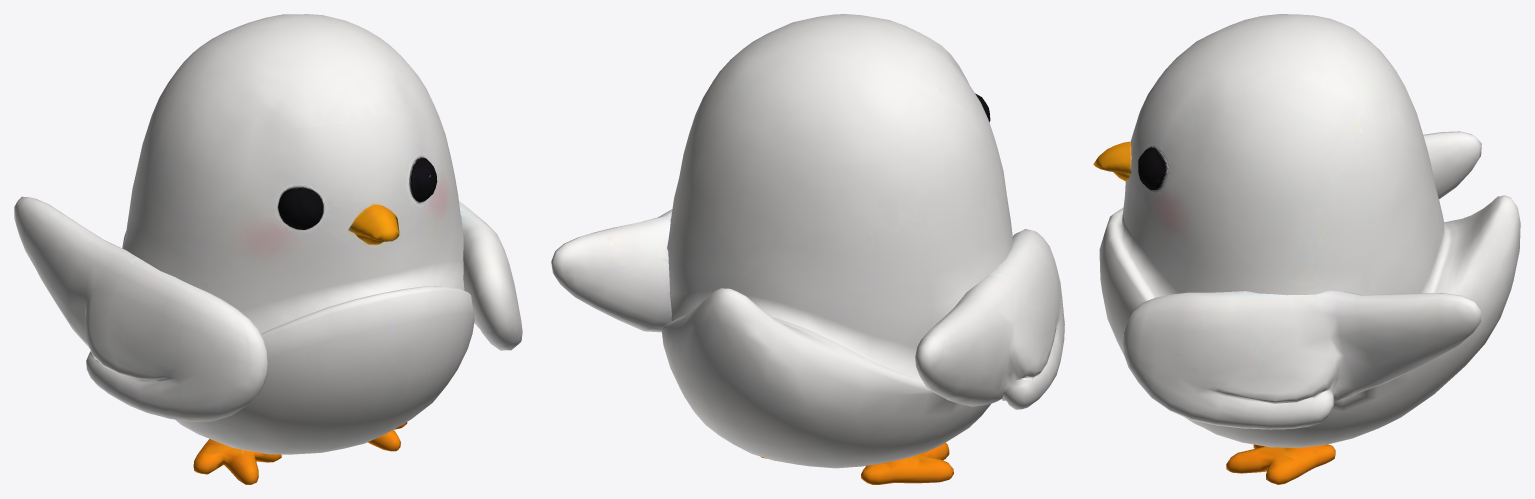
The model's file is dove.914997dd.glb.
3 views of the same model, side by side, from view 1: azimuth 30°, elevation 25°; view 2: azimuth 150°, elevation 25°; view 3: azimuth 270°, elevation 25° (orthographic). The views are drawn at different scales.
Visible parts, largest first — view 1: tripo_node_27a1fb92-7984-46b2-a163-177231015cb7; view 2: tripo_node_27a1fb92-7984-46b2-a163-177231015cb7; view 3: tripo_node_27a1fb92-7984-46b2-a163-177231015cb7.
Part boxes in pixels (bbox=[...]): tripo_node_27a1fb92-7984-46b2-a163-177231015cb7: bbox=[14, 14, 522, 484]; tripo_node_27a1fb92-7984-46b2-a163-177231015cb7: bbox=[551, 14, 1064, 484]; tripo_node_27a1fb92-7984-46b2-a163-177231015cb7: bbox=[1093, 14, 1520, 484].
Size of the model in its own units: 0.9747 by 0.998 by 0.9472.
1 material, 1 textured.
